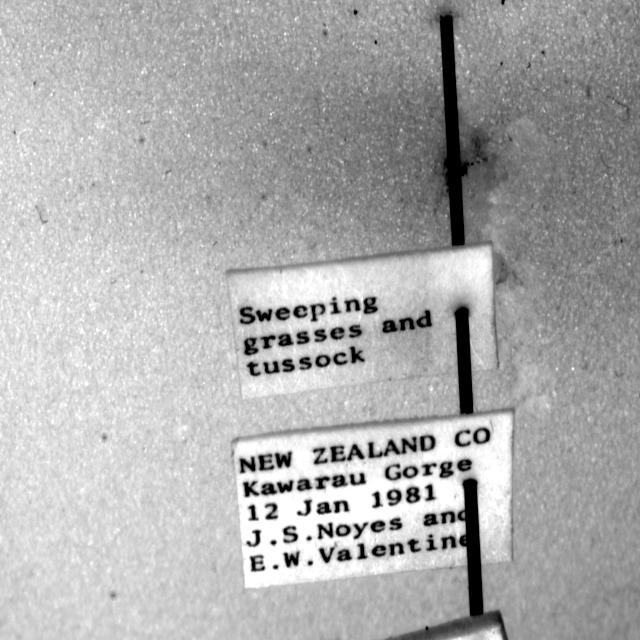typed_label: (231, 411, 514, 587), (228, 244, 498, 399)
